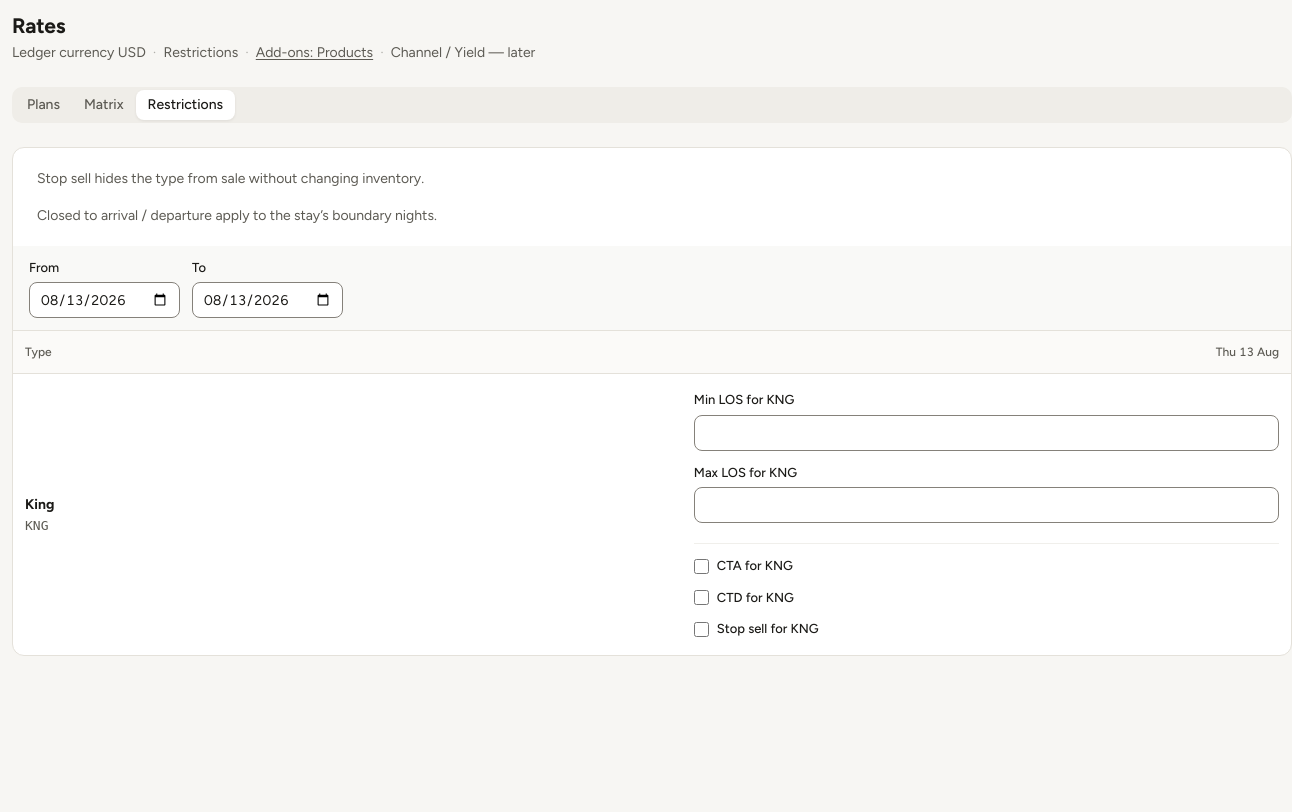
RatesScreen › shows an Alert when saving a restriction fails
Click the checkbox labelled "CTA for KNG" at (701, 566), box [694,559,709,574]
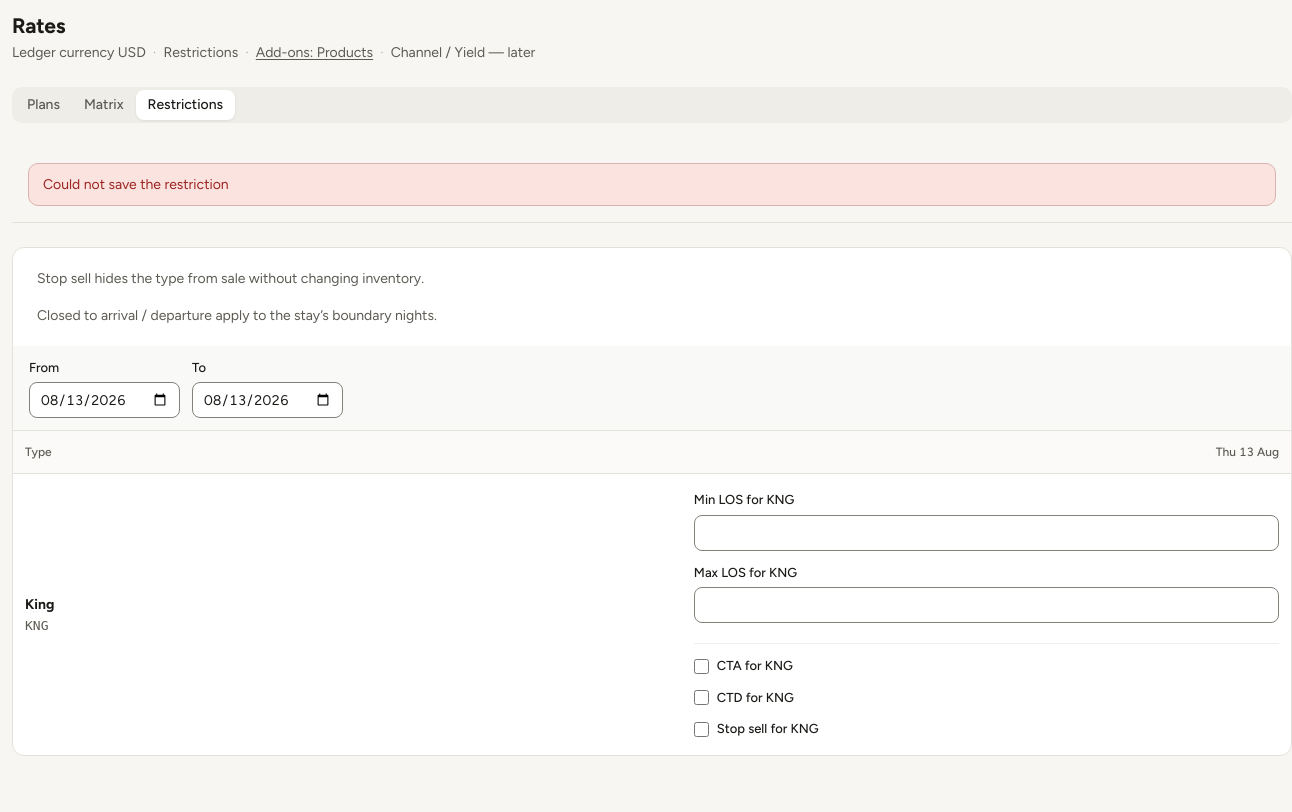
Expected: the checkbox labelled "CTA for KNG" is not checked, [694,659,709,674]
Expected: the message reads "Could not save the restriction", [43,176,229,193]
